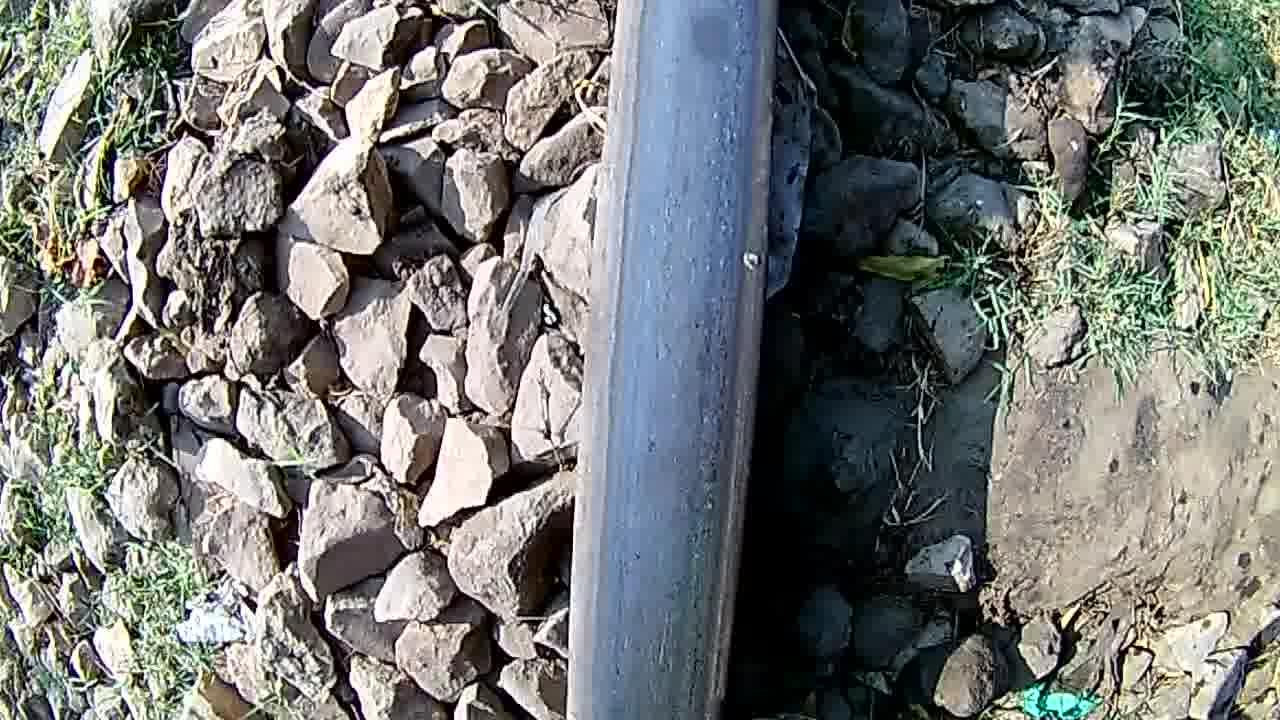bolt_missing: (640, 0, 769, 198)
